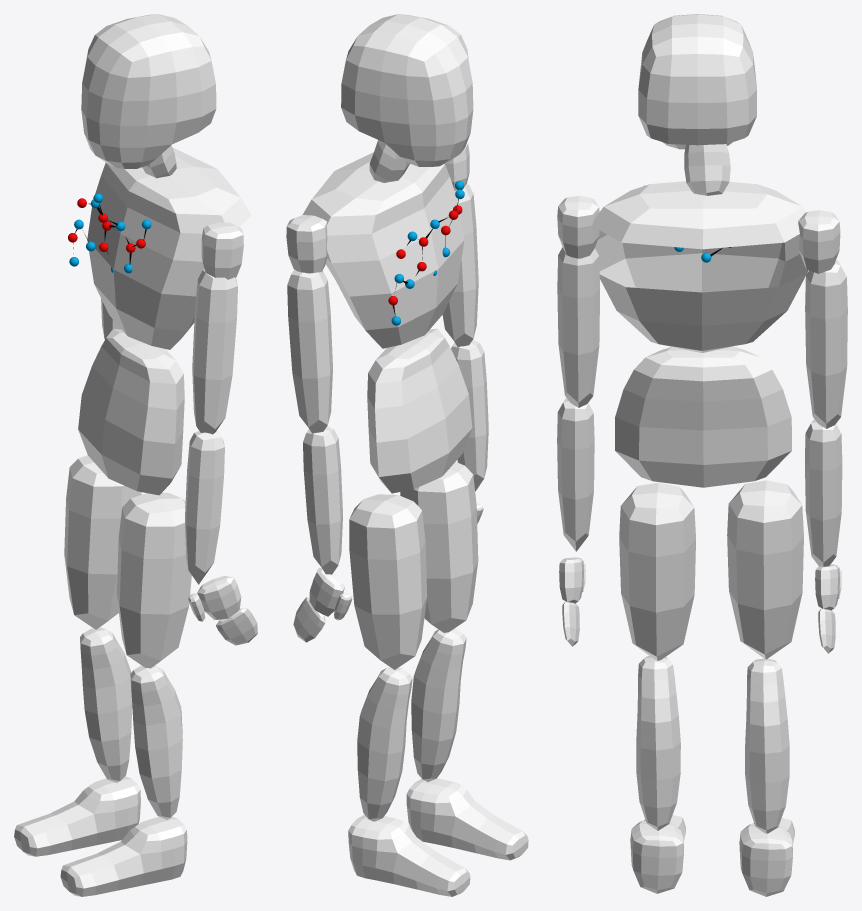
The model's file is Chercheur.fbx.
3 renders of one model, left to right at view 1: azimuth 30°, elevation 25°; view 2: azimuth 150°, elevation 25°; view 3: azimuth 270°, elevation 25°, orthographic. The views are drawn at different scales.
Visible parts, largest first — view 1: Cube.009; view 2: Cube.009; view 3: Cube.009.
Part boxes in pixels (box(x1,y1,x2,y2)): Cube.009: box(14, 14, 257, 896); Cube.009: box(286, 14, 528, 896); Cube.009: box(557, 14, 847, 896).
Size of the model in its own units: 141 by 639 by 194.
